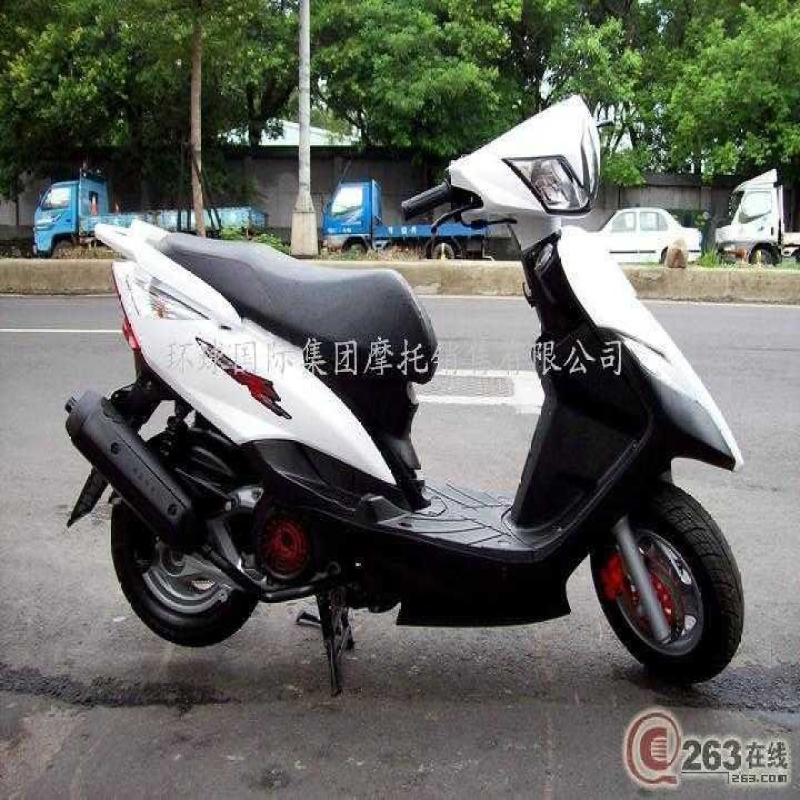bike: (39, 65, 750, 707)
